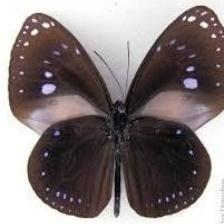butterfly: (9, 6, 224, 218)
